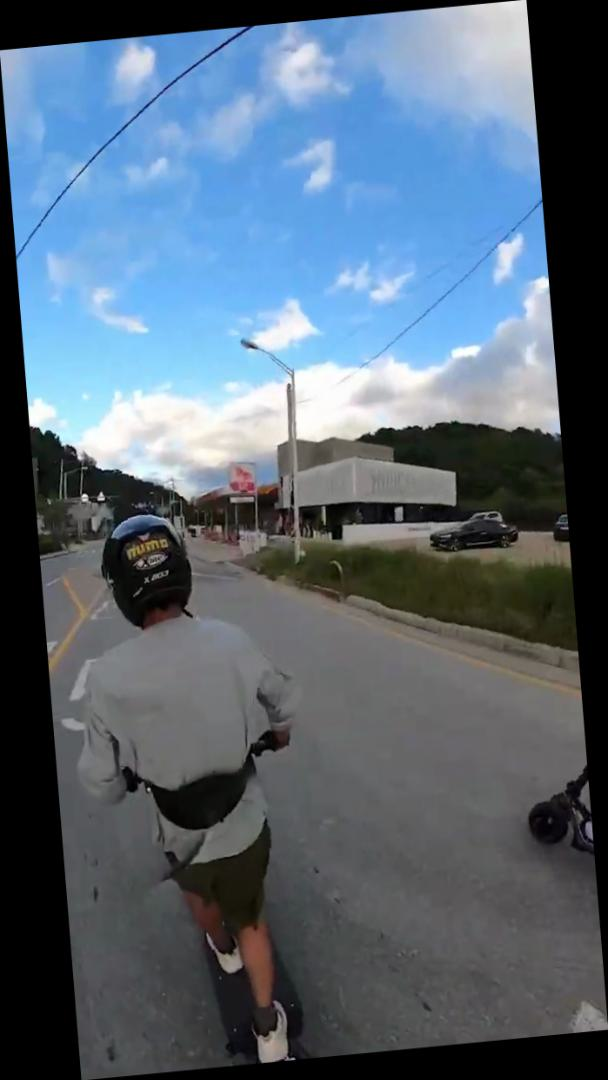helmet: (54, 496, 330, 1079)
